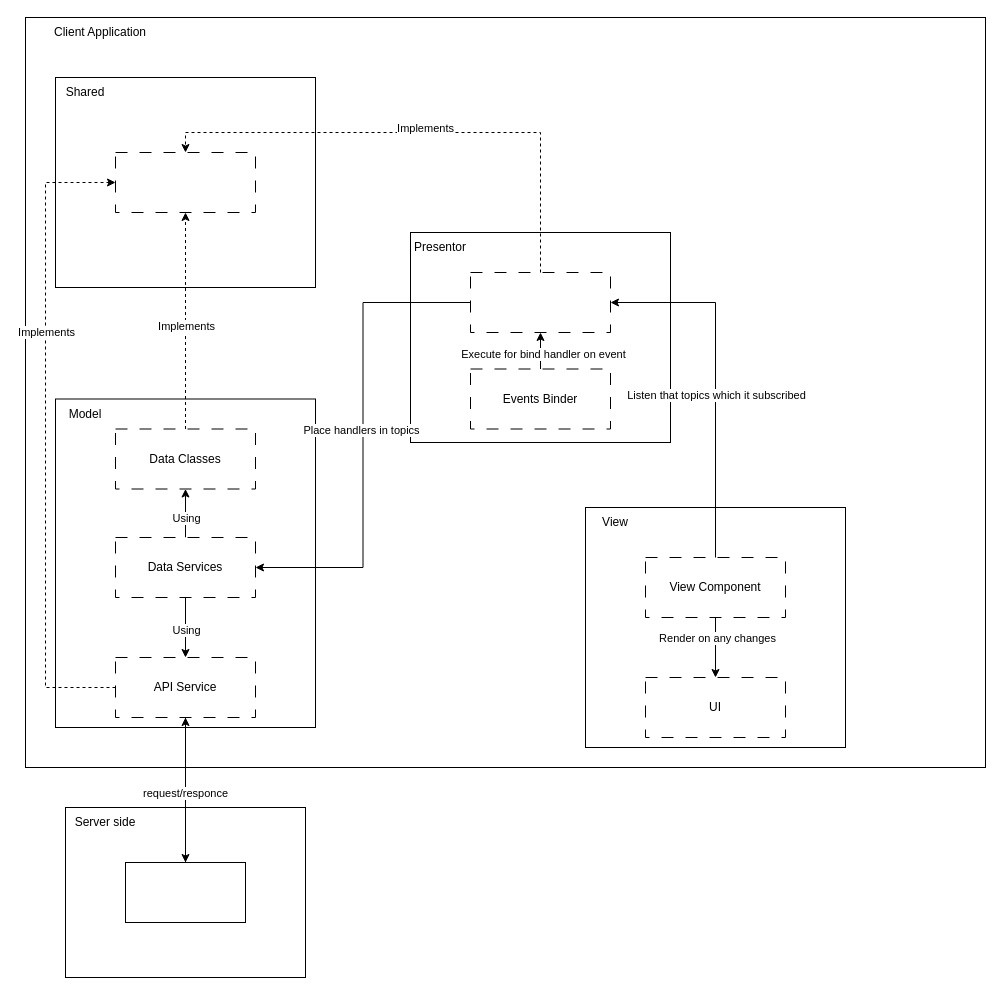
The diagram is 1003 pixels wide and 995 high, and some of its shapes have lost their labels. The shapes that lost their labels are listed below. From the top down, each one's box as (x1, y1, x2, y2) in pixels, then its label:
(114, 152, 256, 212): Types and Interfaces
(470, 272, 610, 332): Broker Impl
(124, 862, 246, 922): API
